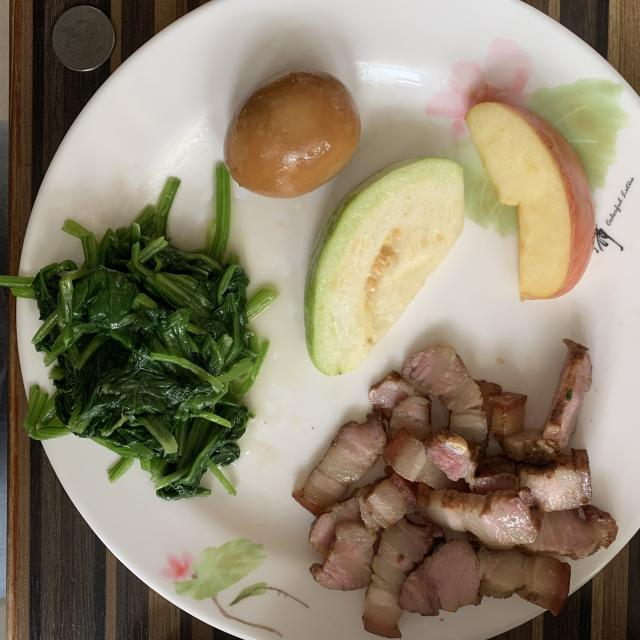apple -sliced-: (465, 102, 595, 299)
coin: (52, 6, 115, 71)
grilled pork: (295, 340, 618, 638)
guava -sliced-: (305, 158, 464, 375)
mustard greens: (0, 166, 278, 499)
soy egg: (224, 71, 361, 199)
